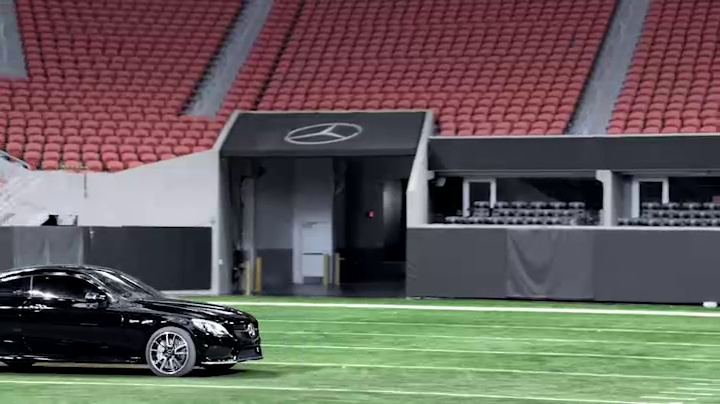amg: (2, 263, 264, 374)
